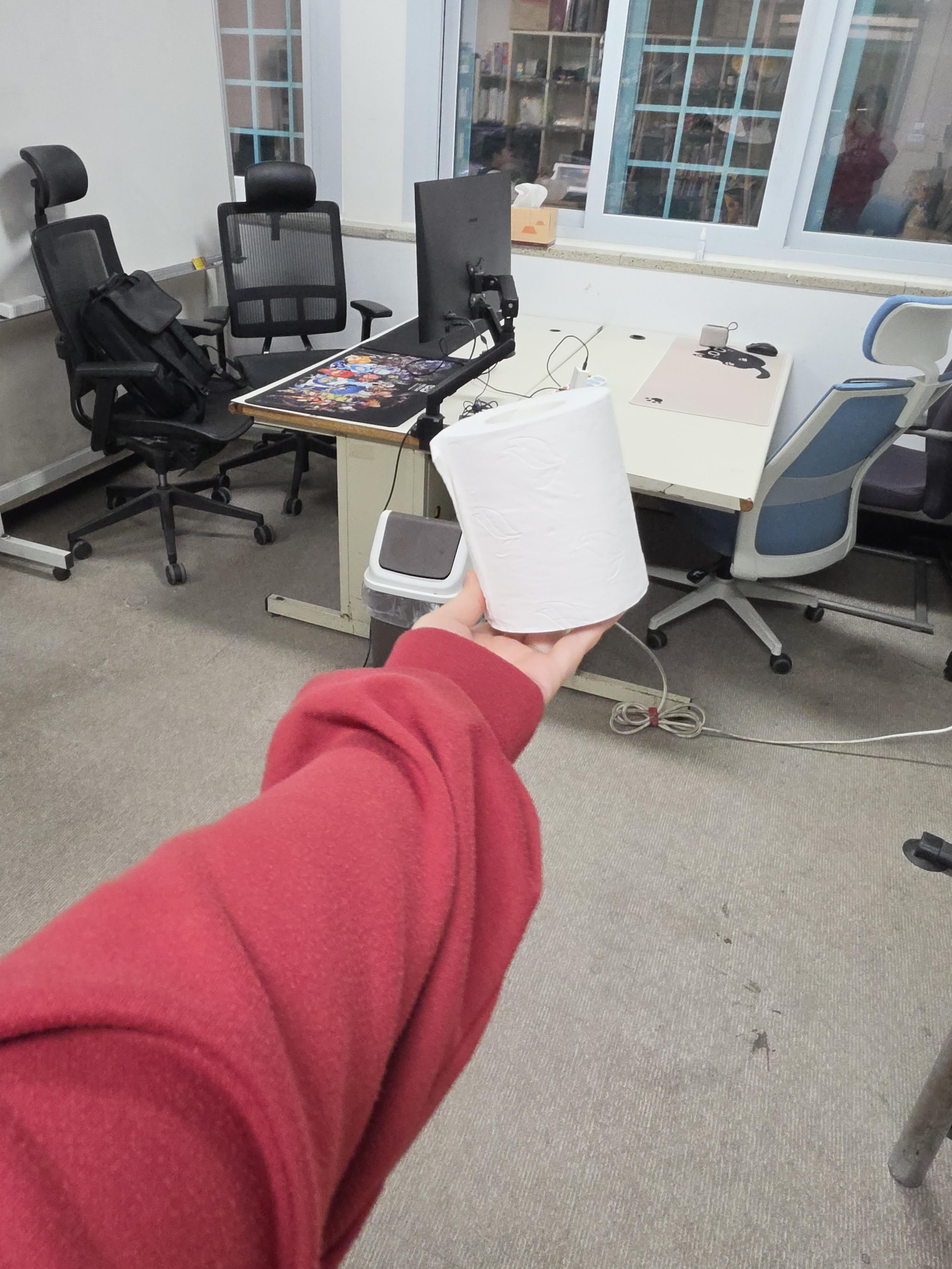tissue: (430, 385, 650, 634), (511, 182, 559, 247)
